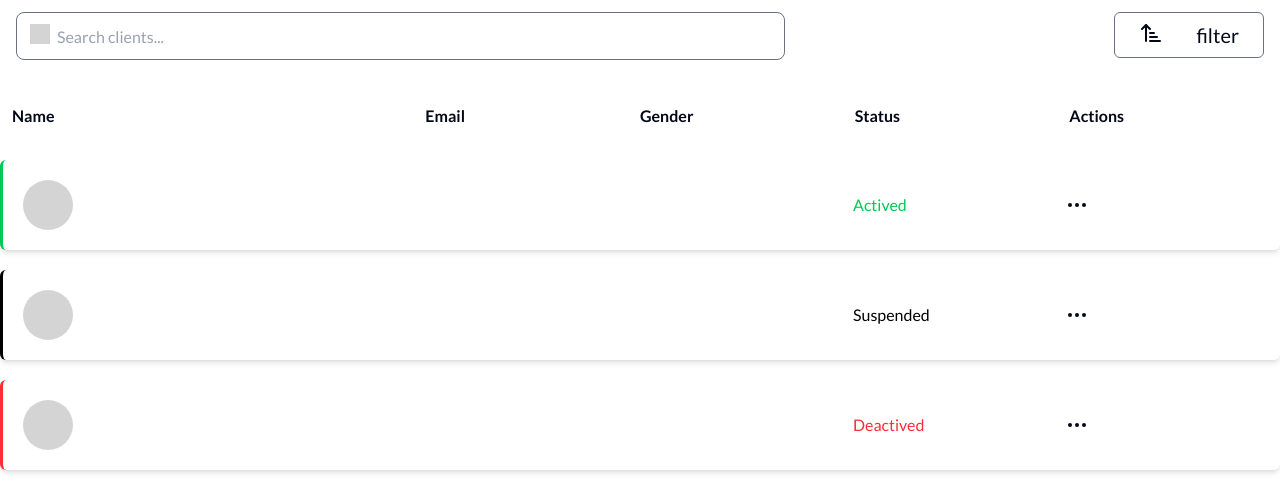
Test: Clients › sort/filter › shows sort options when filter button is clicked
Click the text "filter". click: [1218, 35]
box: x1=1196 y1=21 x2=1239 y2=49
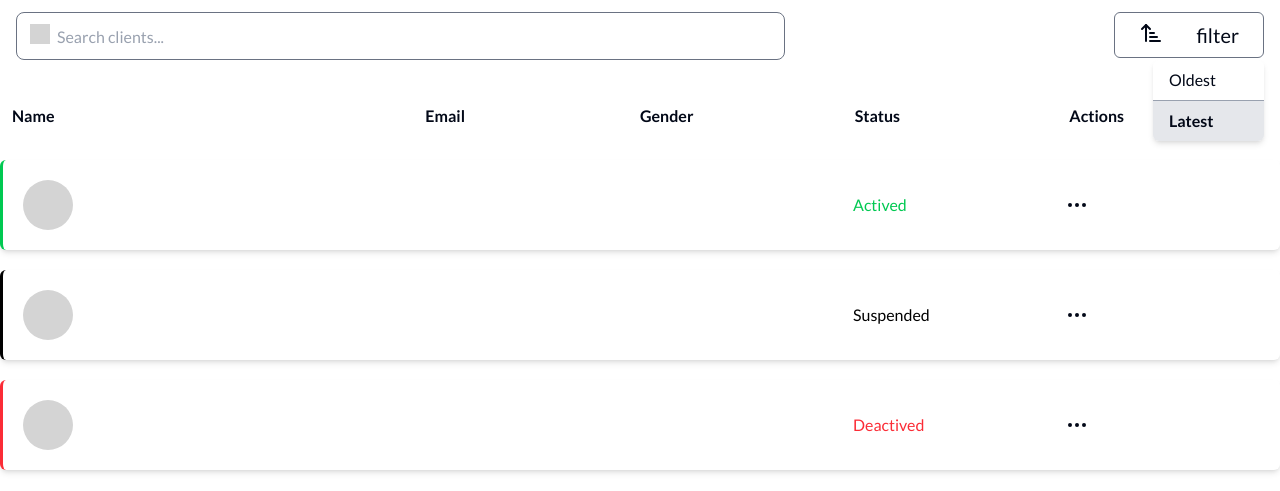
expect the text "oldest" is shown: met, box x1=1153 y1=60 x2=1264 y2=101
expect the text "latest" is shown: met, box x1=1153 y1=101 x2=1264 y2=141
